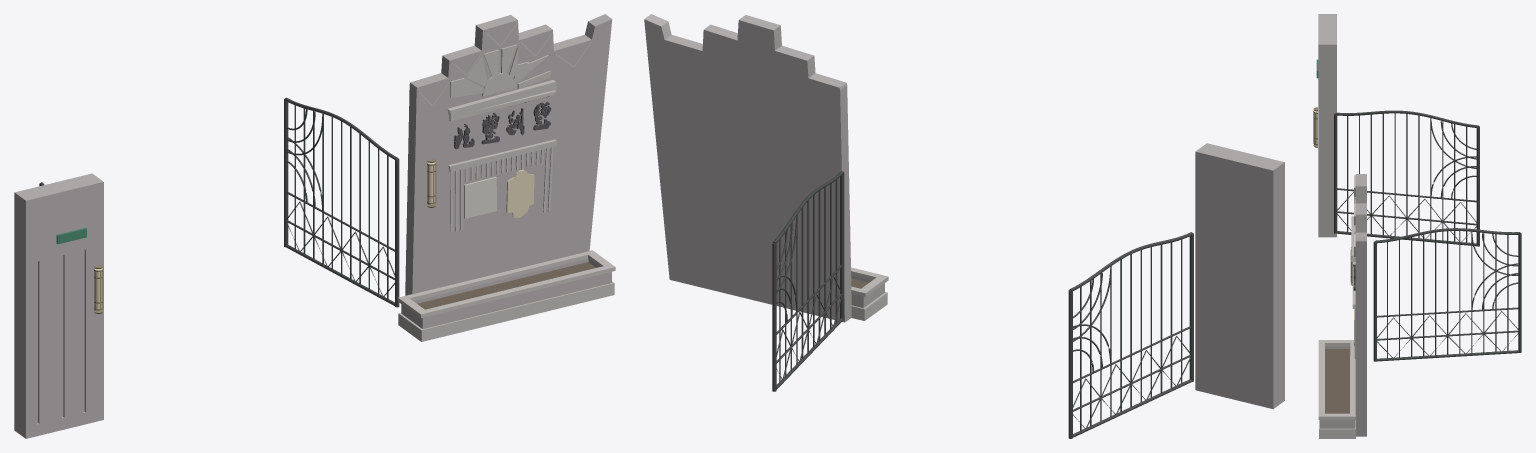
The model's file is full-source.glb.
3 views of the same model, side by side, from view 1: azimuth 30°, elevation 25°; view 2: azimuth 150°, elevation 25°; view 3: azimuth 270°, elevation 25° (orthographic). The views are drawn at different scales.
Visible parts, largest first — view 1: 兆丰别墅长宁路弄口题名墙; view 2: 兆丰别墅长宁路弄口题名墙; view 3: 兆丰别墅长宁路弄口题名墙.
Boxes of the visible parts, <box> form: 兆丰别墅长宁路弄口题名墙: <box>14,14,615,438</box>; 兆丰别墅长宁路弄口题名墙: <box>644,14,1284,438</box>; 兆丰别墅长宁路弄口题名墙: <box>1313,14,1521,438</box>.
Size of the model in its own units: 9.16 by 3.97 by 3.35.
